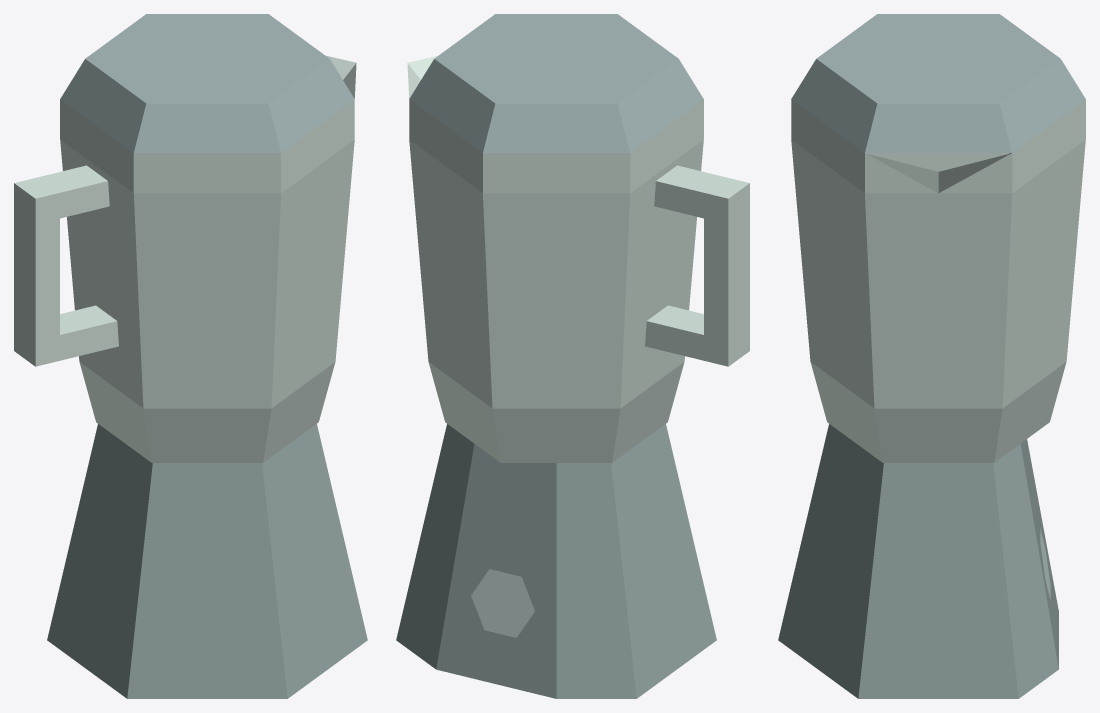
File: kitchen_blender.glb
The picture shows the model from 3 angles, left to right: view 1: azimuth 30°, elevation 25°; view 2: azimuth 150°, elevation 25°; view 3: azimuth 270°, elevation 25°; orthographic projection.
Visible parts, largest first — view 1: _MeshInstance3D_545, _MeshInstance3D_547, _MeshInstance3D_546; view 2: _MeshInstance3D_545, _MeshInstance3D_547, _MeshInstance3D_546; view 3: _MeshInstance3D_545, _MeshInstance3D_547, _MeshInstance3D_546.
Part boxes in pixels (box(x1,y1,x2,y2)): _MeshInstance3D_545: box(14, 55, 356, 462); _MeshInstance3D_547: box(47, 424, 367, 698); _MeshInstance3D_546: box(60, 14, 354, 152); _MeshInstance3D_545: box(407, 55, 749, 462); _MeshInstance3D_547: box(396, 424, 716, 698); _MeshInstance3D_546: box(409, 14, 703, 152); _MeshInstance3D_545: box(791, 99, 1085, 462); _MeshInstance3D_547: box(778, 424, 1058, 698); _MeshInstance3D_546: box(791, 14, 1085, 152).
Size of the model in its own units: 1.36 by 2.28 by 1.09.
